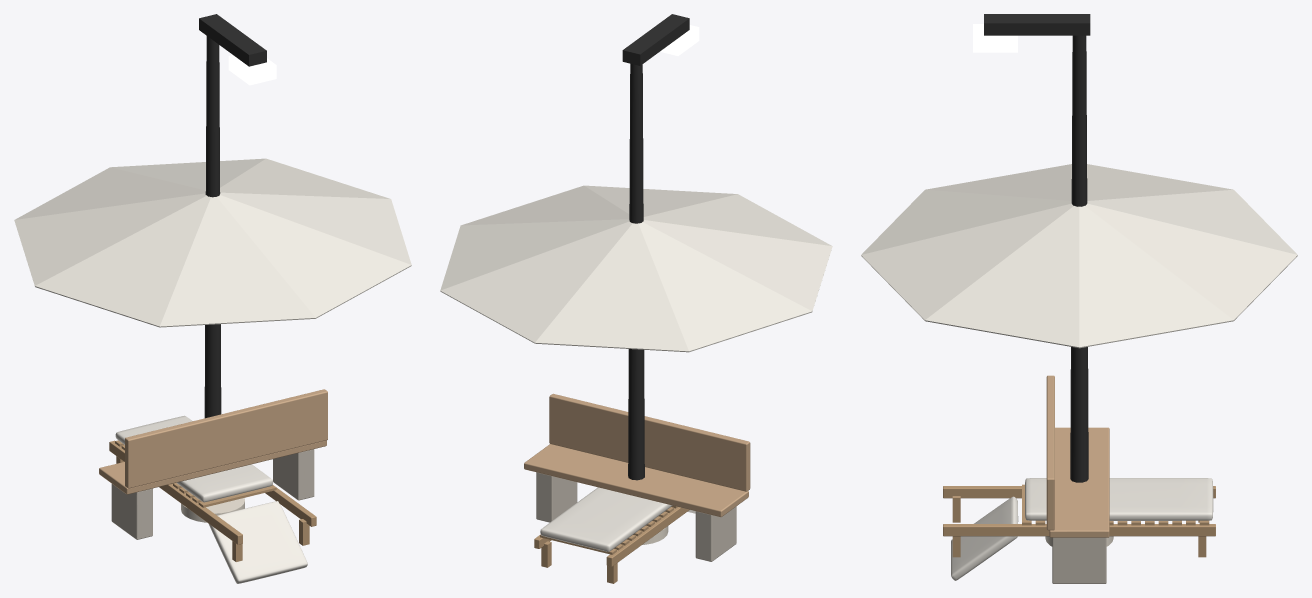
Rendered from props.glb.
3 renders of one model, left to right at view 1: azimuth 30°, elevation 25°; view 2: azimuth 150°, elevation 25°; view 3: azimuth 270°, elevation 25°, orthographic. The views are drawn at different scales.
Visible parts, largest first — view 1: ps_canopy, bench_back, lg_back, lamp_pole, lg_pad, bench_leg_l, bench_seat, bench_leg_r, lamp_arm, lg_rail, lamp_head, lg_rail.001 (+1 smaller); view 2: ps_canopy, bench_back, bench_seat, lg_pad, lamp_pole, bench_leg_l, lamp_arm, bench_leg_r, lg_rail, lamp_head; view 3: ps_canopy, lg_pad, bench_seat, lamp_pole, lg_rail.001, bench_leg_r, lamp_arm, lg_back, bench_back, lg_rail, lamp_head.
Part boxes in pixels (<box>): ps_canopy: <box>14,158,411,327</box>; bench_back: <box>125,389,327,488</box>; lg_back: <box>208,501,307,583</box>; lamp_pole: <box>204,17,221,418</box>; lg_pad: <box>115,415,272,502</box>; bench_leg_l: <box>111,484,152,539</box>; bench_seat: <box>99,440,326,494</box>; bench_leg_r: <box>273,449,314,500</box>; lamp_arm: <box>199,14,266,66</box>; lg_rail: <box>109,440,242,544</box>; lamp_head: <box>228,55,276,85</box>; lg_rail.001: <box>265,487,316,526</box>; ps_canopy: <box>440,185,832,352</box>; bench_back: <box>549,393,750,491</box>; bench_seat: <box>524,444,748,517</box>; lg_pad: <box>540,487,672,551</box>; lamp_pole: <box>628,46,644,480</box>; bench_leg_l: <box>695,506,736,561</box>; lamp_arm: <box>622,14,689,65</box>; bench_leg_r: <box>536,472,577,522</box>; lg_rail: <box>606,507,689,566</box>; lamp_head: <box>660,25,699,55</box>; ps_canopy: <box>861,164,1297,348</box>; lg_pad: <box>1025,478,1213,520</box>; bench_seat: <box>1049,427,1109,537</box>; lamp_pole: <box>1070,16,1088,482</box>; lg_rail.001: <box>943,524,1215,536</box>; bench_leg_r: <box>1052,537,1106,583</box>; lamp_arm: <box>984,14,1090,35</box>; lg_back: <box>951,496,1018,580</box>; bench_back: <box>1046,375,1054,530</box>; lg_rail: <box>943,486,1215,498</box>; lamp_head: <box>973,24,1017,52</box>.
Bounding box in the file's own units: 3.2 × 4.4 × 3.2.
